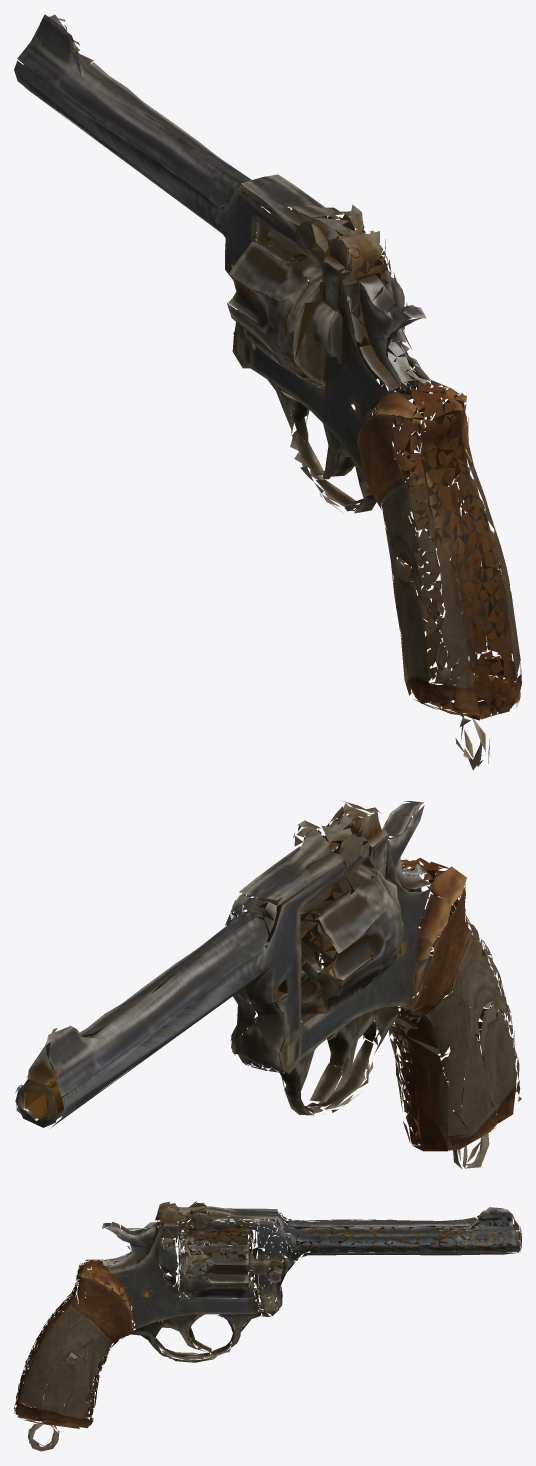
The model's file is revolver_cairo.glb.
3 views of the same model, one above another, from view 1: azimuth 30°, elevation 25°; view 2: azimuth 150°, elevation 25°; view 3: azimuth 270°, elevation 25° (orthographic). The views are drawn at different scales.
Parts seen in each view (by area): view 1: gun, cylinder, hammer; view 2: gun, cylinder, hammer; view 3: gun, cylinder, hammer.
Boxes of the visible parts, x1,y1,x2,y2 form: gun: (14,14,521,770); cylinder: (227,209,407,386); hammer: (328,231,426,337); gun: (15,803,521,1168); cylinder: (233,835,404,1020); hammer: (335,801,424,884); gun: (14,1201,521,1451); cylinder: (159,1215,267,1298); hammer: (102,1203,171,1262).
Bounding box in the file's own units: 0.0459 × 0.1604 × 0.3005.
1 material, 1 textured.
